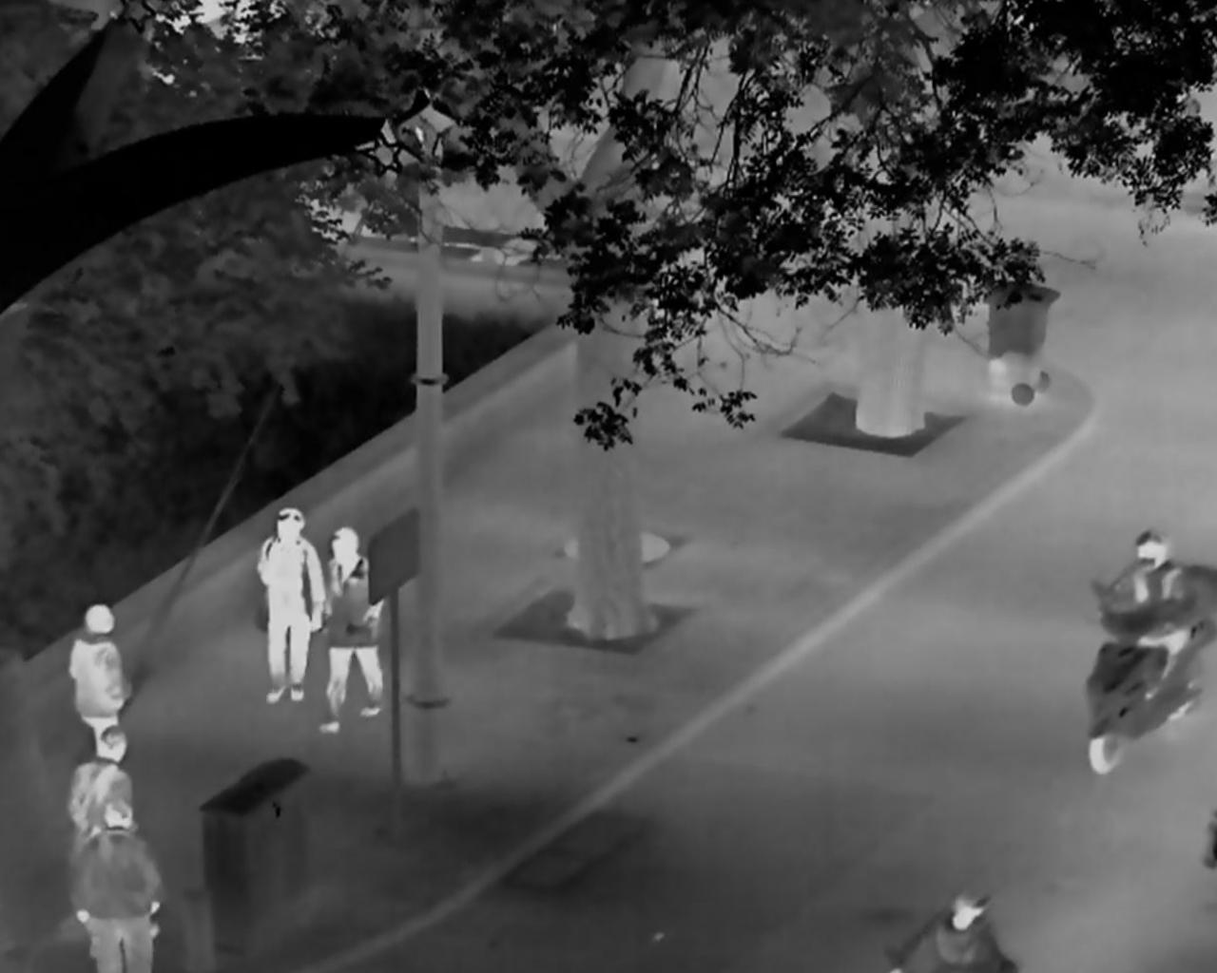person: (1091, 527, 1192, 699), (67, 802, 165, 973), (253, 506, 325, 704), (319, 525, 386, 735), (881, 887, 1014, 973), (66, 603, 131, 758), (66, 725, 136, 848)
